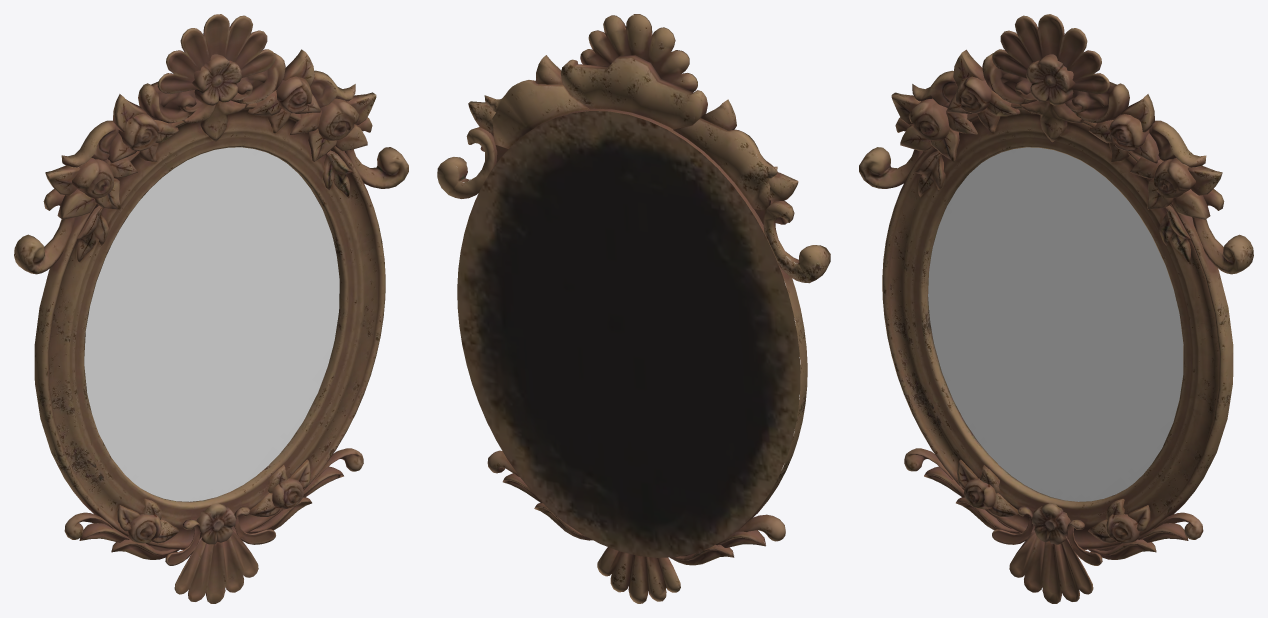
File: vict_ornate_mirror.glb
3 views of the same model, side by side, from view 1: azimuth 30°, elevation 25°; view 2: azimuth 150°, elevation 25°; view 3: azimuth 330°, elevation 25° (orthographic).
Visible parts, largest first — view 1: defaultMaterial; view 2: defaultMaterial; view 3: defaultMaterial.
Boxes of the visible parts, <box> form: defaultMaterial: <box>14,14,408,603</box>; defaultMaterial: <box>437,14,830,603</box>; defaultMaterial: <box>859,14,1253,603</box>.
Size of the model in its own units: 1.16 by 1.7 by 0.0948.
2 materials, 2 textured.
